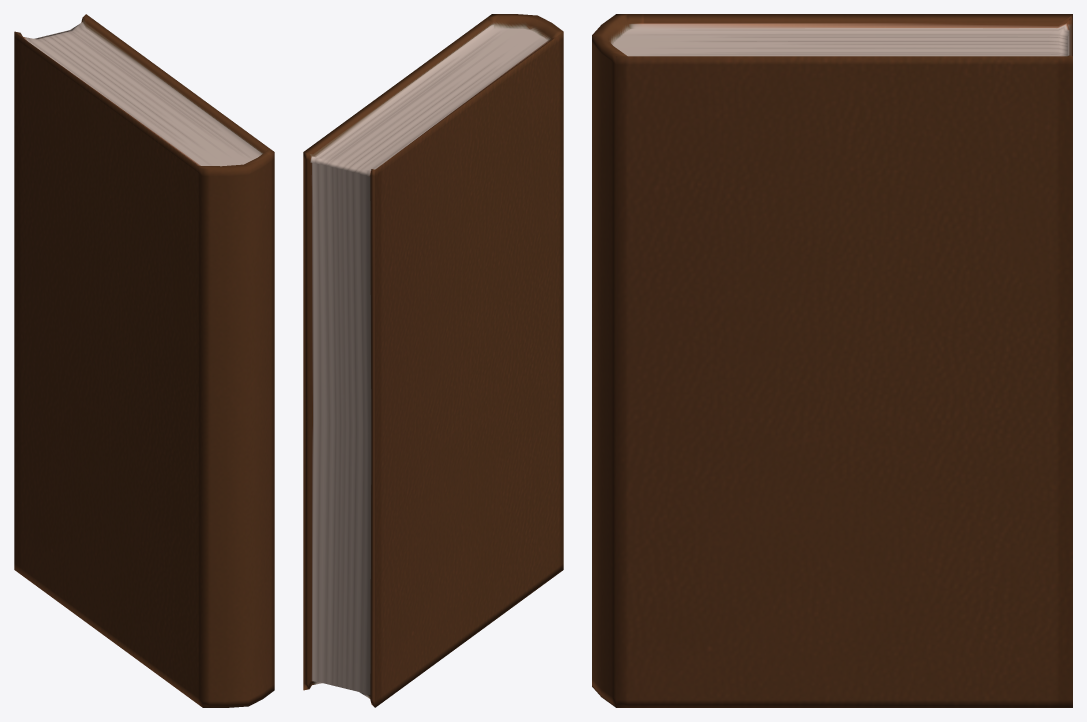
The model's file is Books.fbx.
3 renders of one model, left to right at view 1: azimuth 30°, elevation 25°; view 2: azimuth 150°, elevation 25°; view 3: azimuth 270°, elevation 25°, orthographic. The views are drawn at different scales.
Parts seen in each view (by area): view 1: BrownBook; view 2: BrownBook; view 3: BrownBook.
Part boxes in pixels (x1,y1,x2,y2): BrownBook: (14, 14, 274, 707); BrownBook: (303, 14, 563, 707); BrownBook: (592, 14, 1072, 707).
Bounding box in the file's own units: 0.3889 × 2.78 × 1.86.
